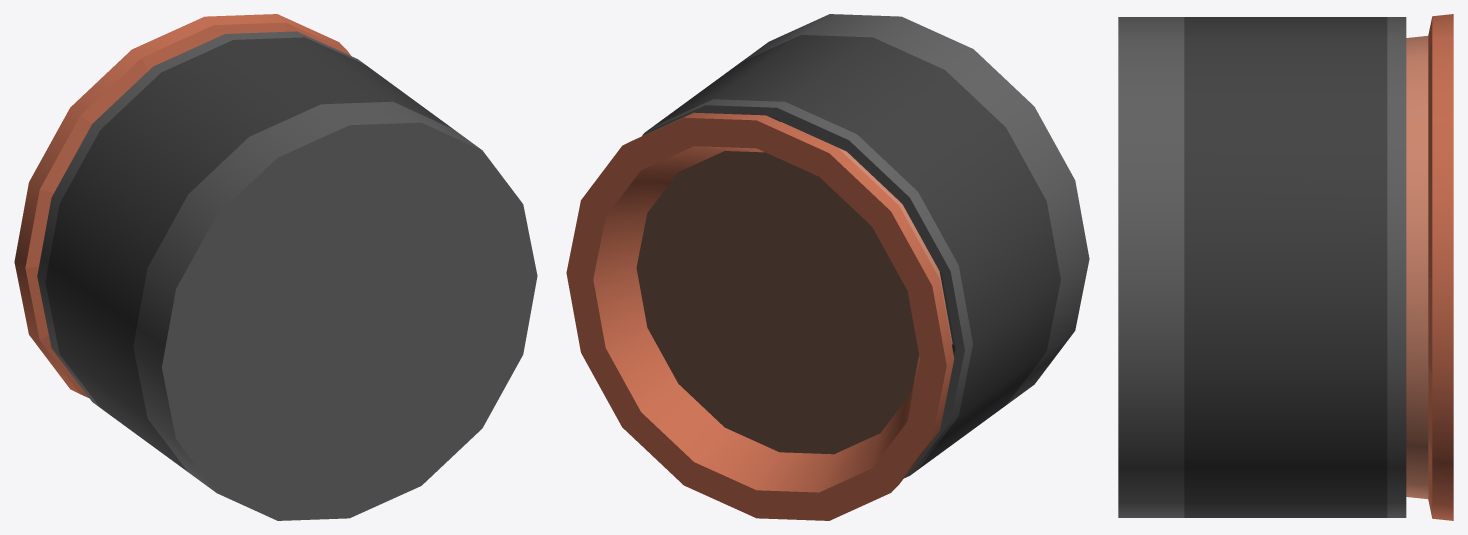
The model's file is plant-c.glb.
3 renders of one model, left to right at view 1: azimuth 30°, elevation 25°; view 2: azimuth 150°, elevation 25°; view 3: azimuth 270°, elevation 25°, orthographic. The views are drawn at different scales.
Visible parts, largest first — view 1: flowerpot_001; view 2: flowerpot_001; view 3: flowerpot_001.
Part boxes in pixels (x1,y1,x2,y2): flowerpot_001: [14, 14, 537, 520]; flowerpot_001: [566, 14, 1089, 520]; flowerpot_001: [1118, 14, 1453, 520].
Bounding box in the file's own units: 0.7307 × 0.7307 × 0.4827.
1 material, 1 textured.
